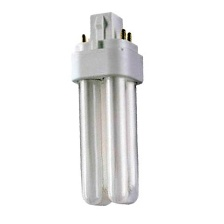light_bulb: (66, 8, 148, 209)
